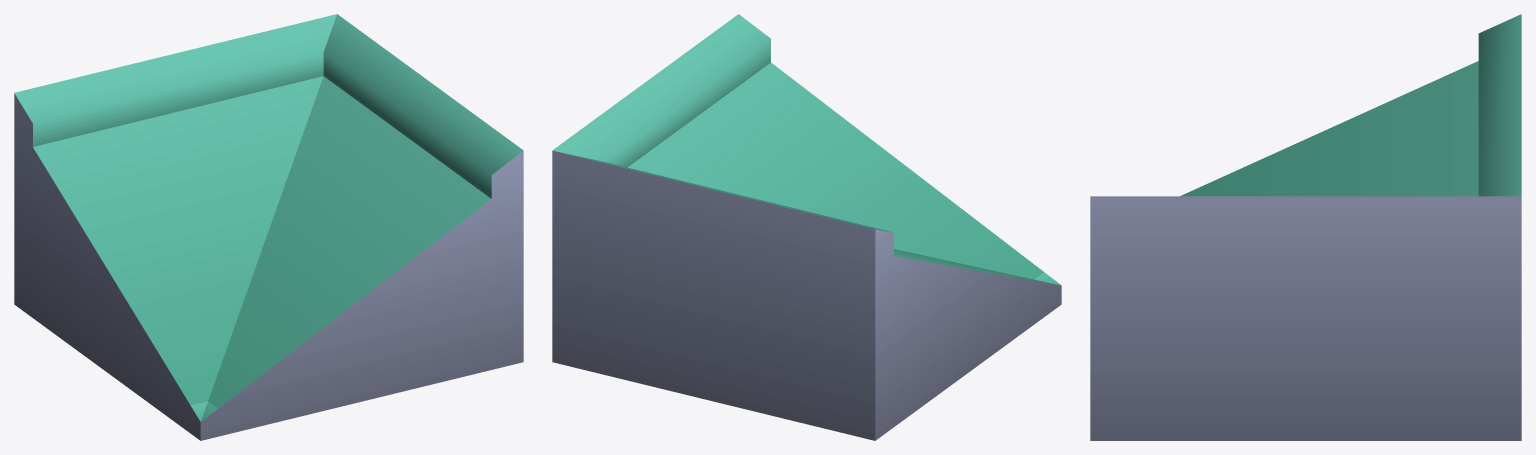
Rendered from roof-corner-inner.fbx.
The picture shows the model from 3 angles, left to right: view 1: azimuth 30°, elevation 25°; view 2: azimuth 150°, elevation 25°; view 3: azimuth 270°, elevation 25°; orthographic projection. The views are drawn at different scales.
Visible parts, largest first — view 1: roof-corner-inner; view 2: roof-corner-inner; view 3: roof-corner-inner.
Part boxes in pixels (box(x1,y1,x2,y2)): roof-corner-inner: box(14, 14, 523, 440); roof-corner-inner: box(552, 14, 1061, 440); roof-corner-inner: box(1090, 14, 1521, 440).
Bounding box in the file's own units: 100 × 62.59 × 100.
Materials: 1 (1 with a texture image).
